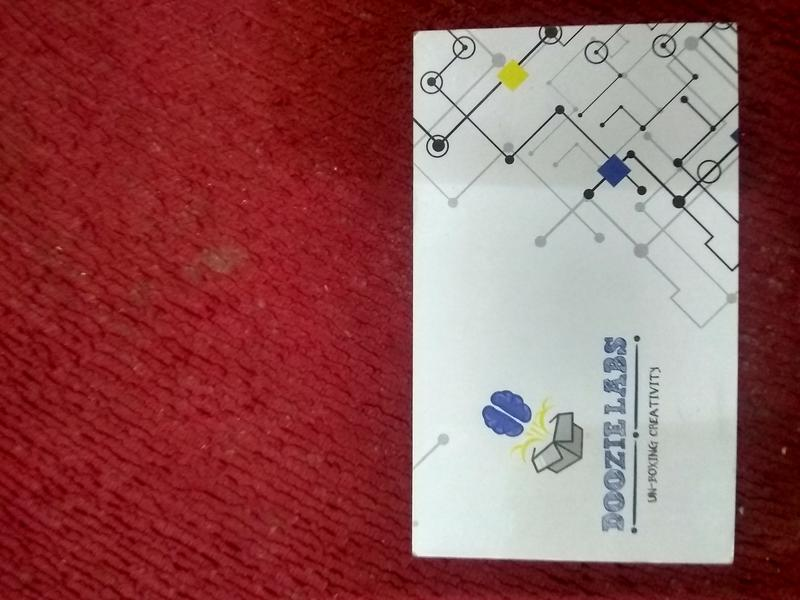back: (411, 18, 739, 565)
